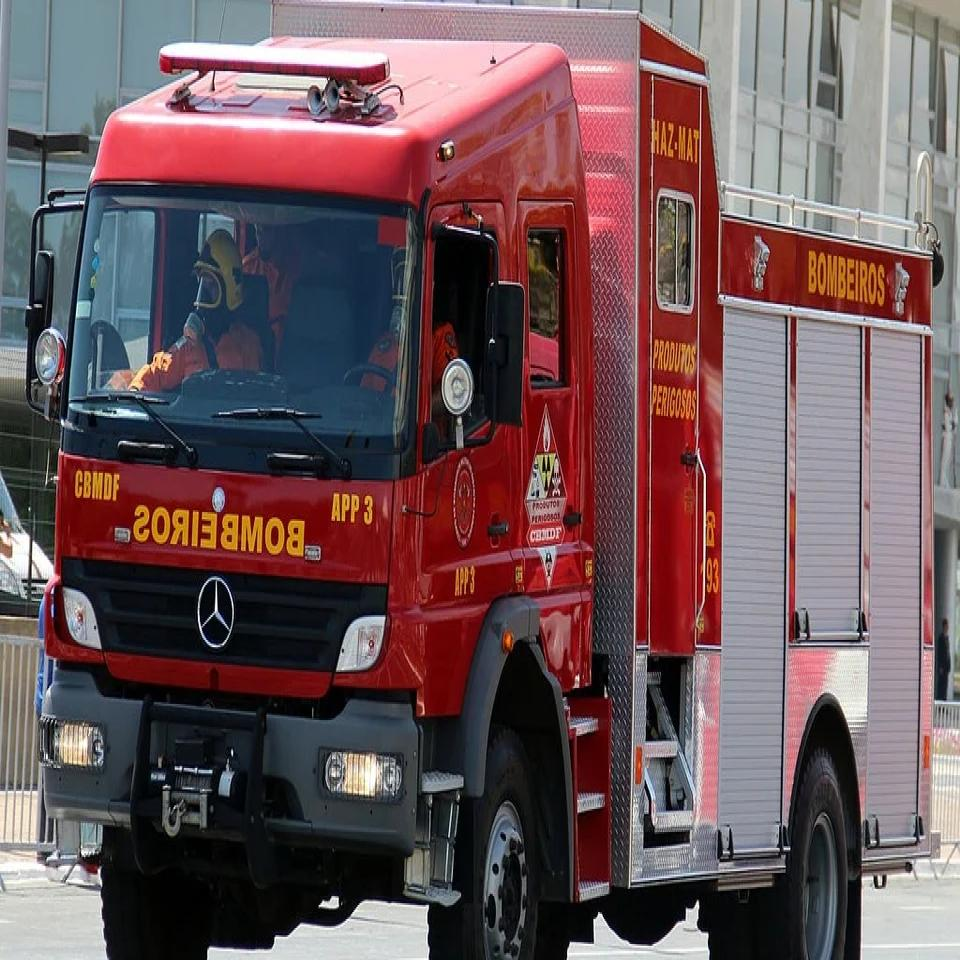viatura: (22, 0, 944, 960)
